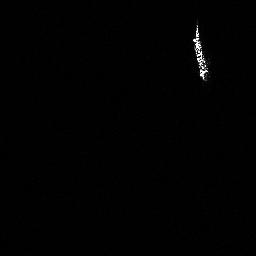ship: (188, 20, 214, 83)
